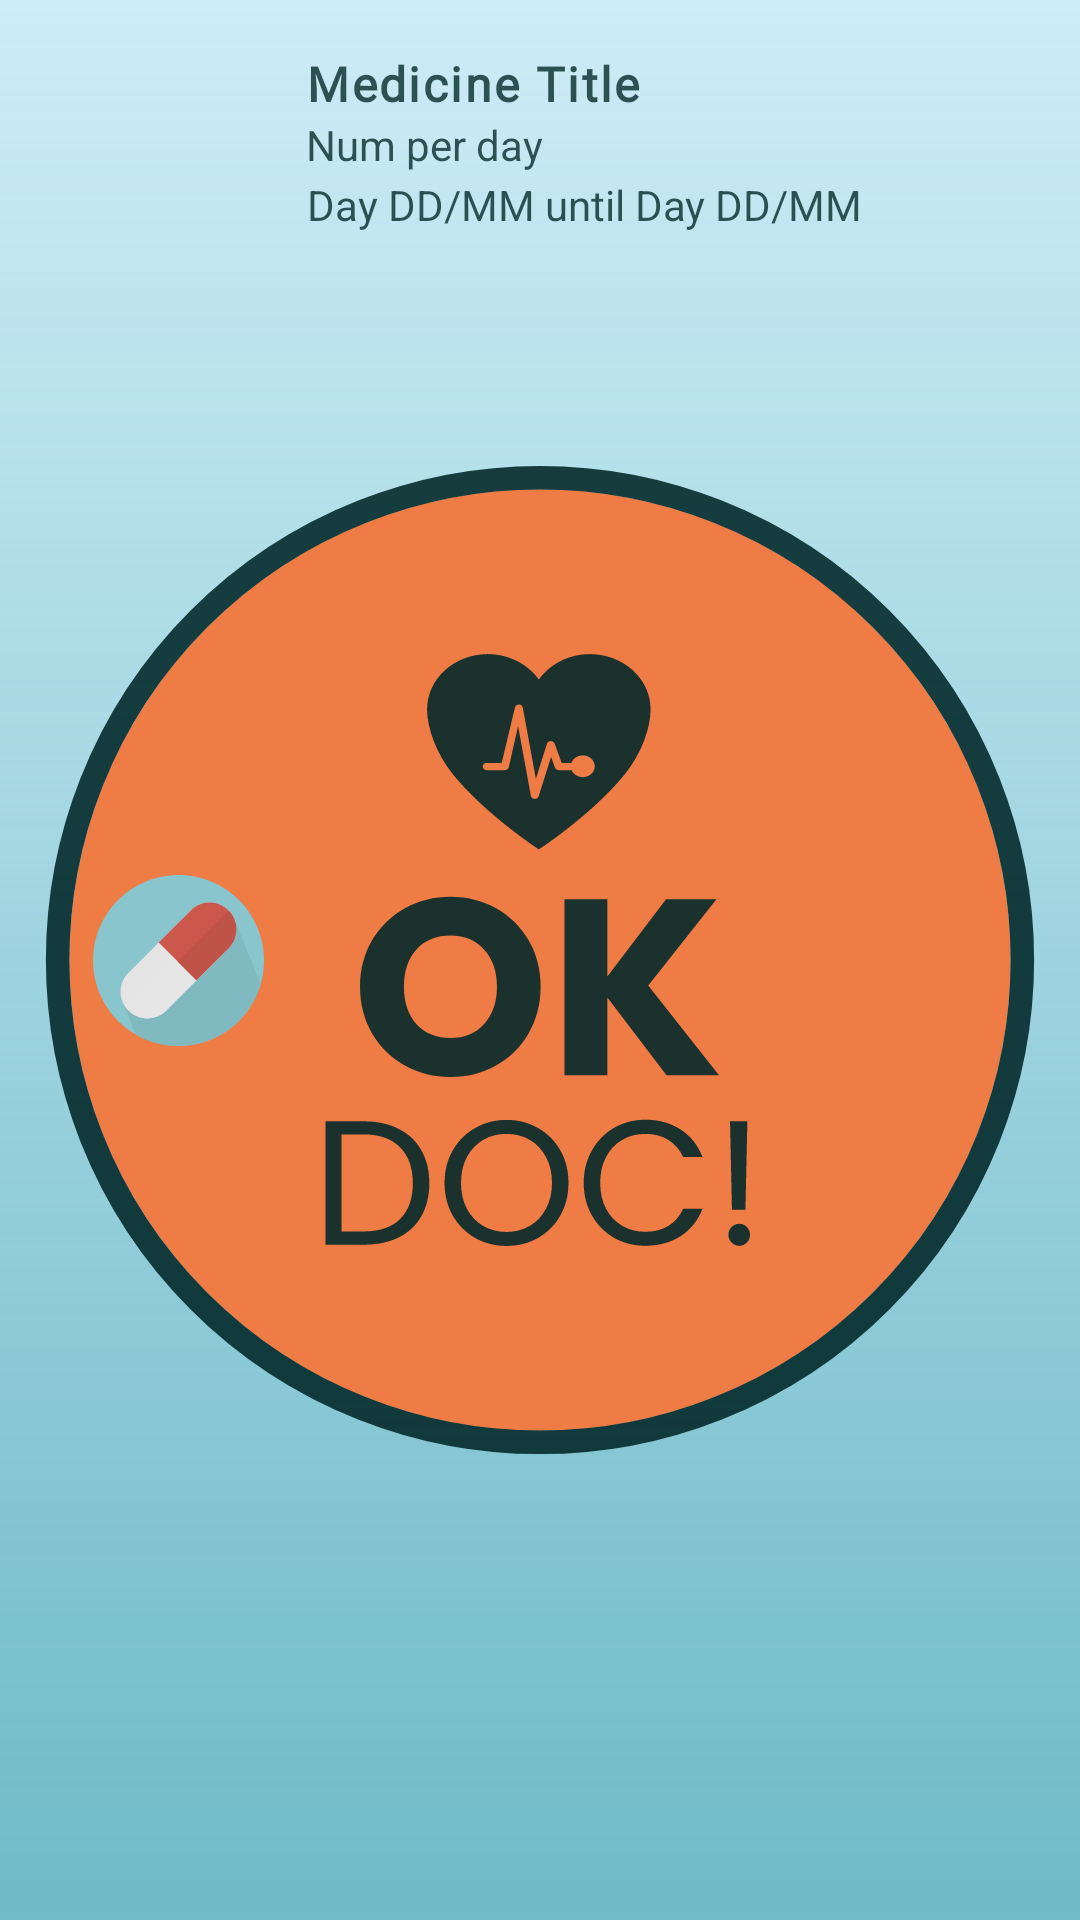

Icon bounding boxes for this 1080px×1920px phone screenshot, format region(x1, y1, x2, y2):
medicine: region(93, 875, 264, 1046)
